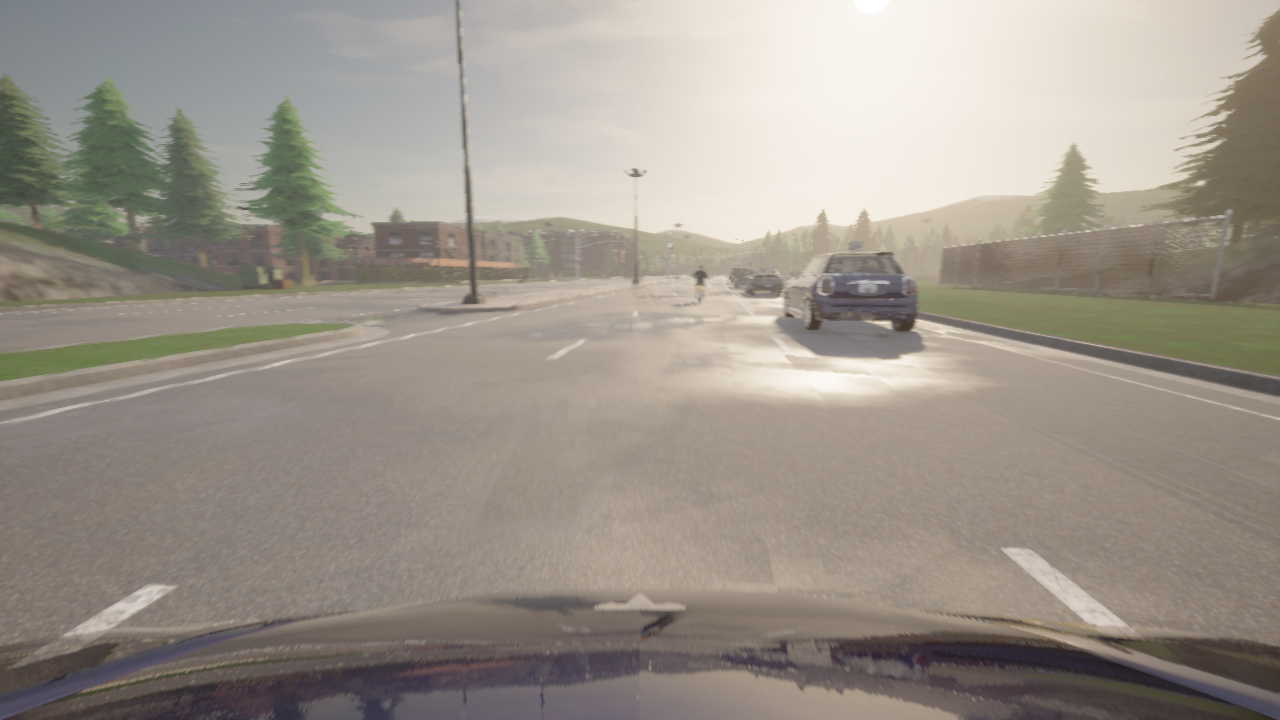cyclist: (0, 588, 1279, 719), (783, 250, 916, 331), (745, 268, 783, 294), (690, 273, 710, 302), (734, 268, 755, 287), (730, 268, 741, 282)
